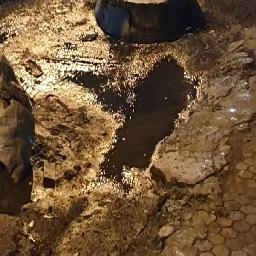water accumulation: (63, 52, 199, 190)
